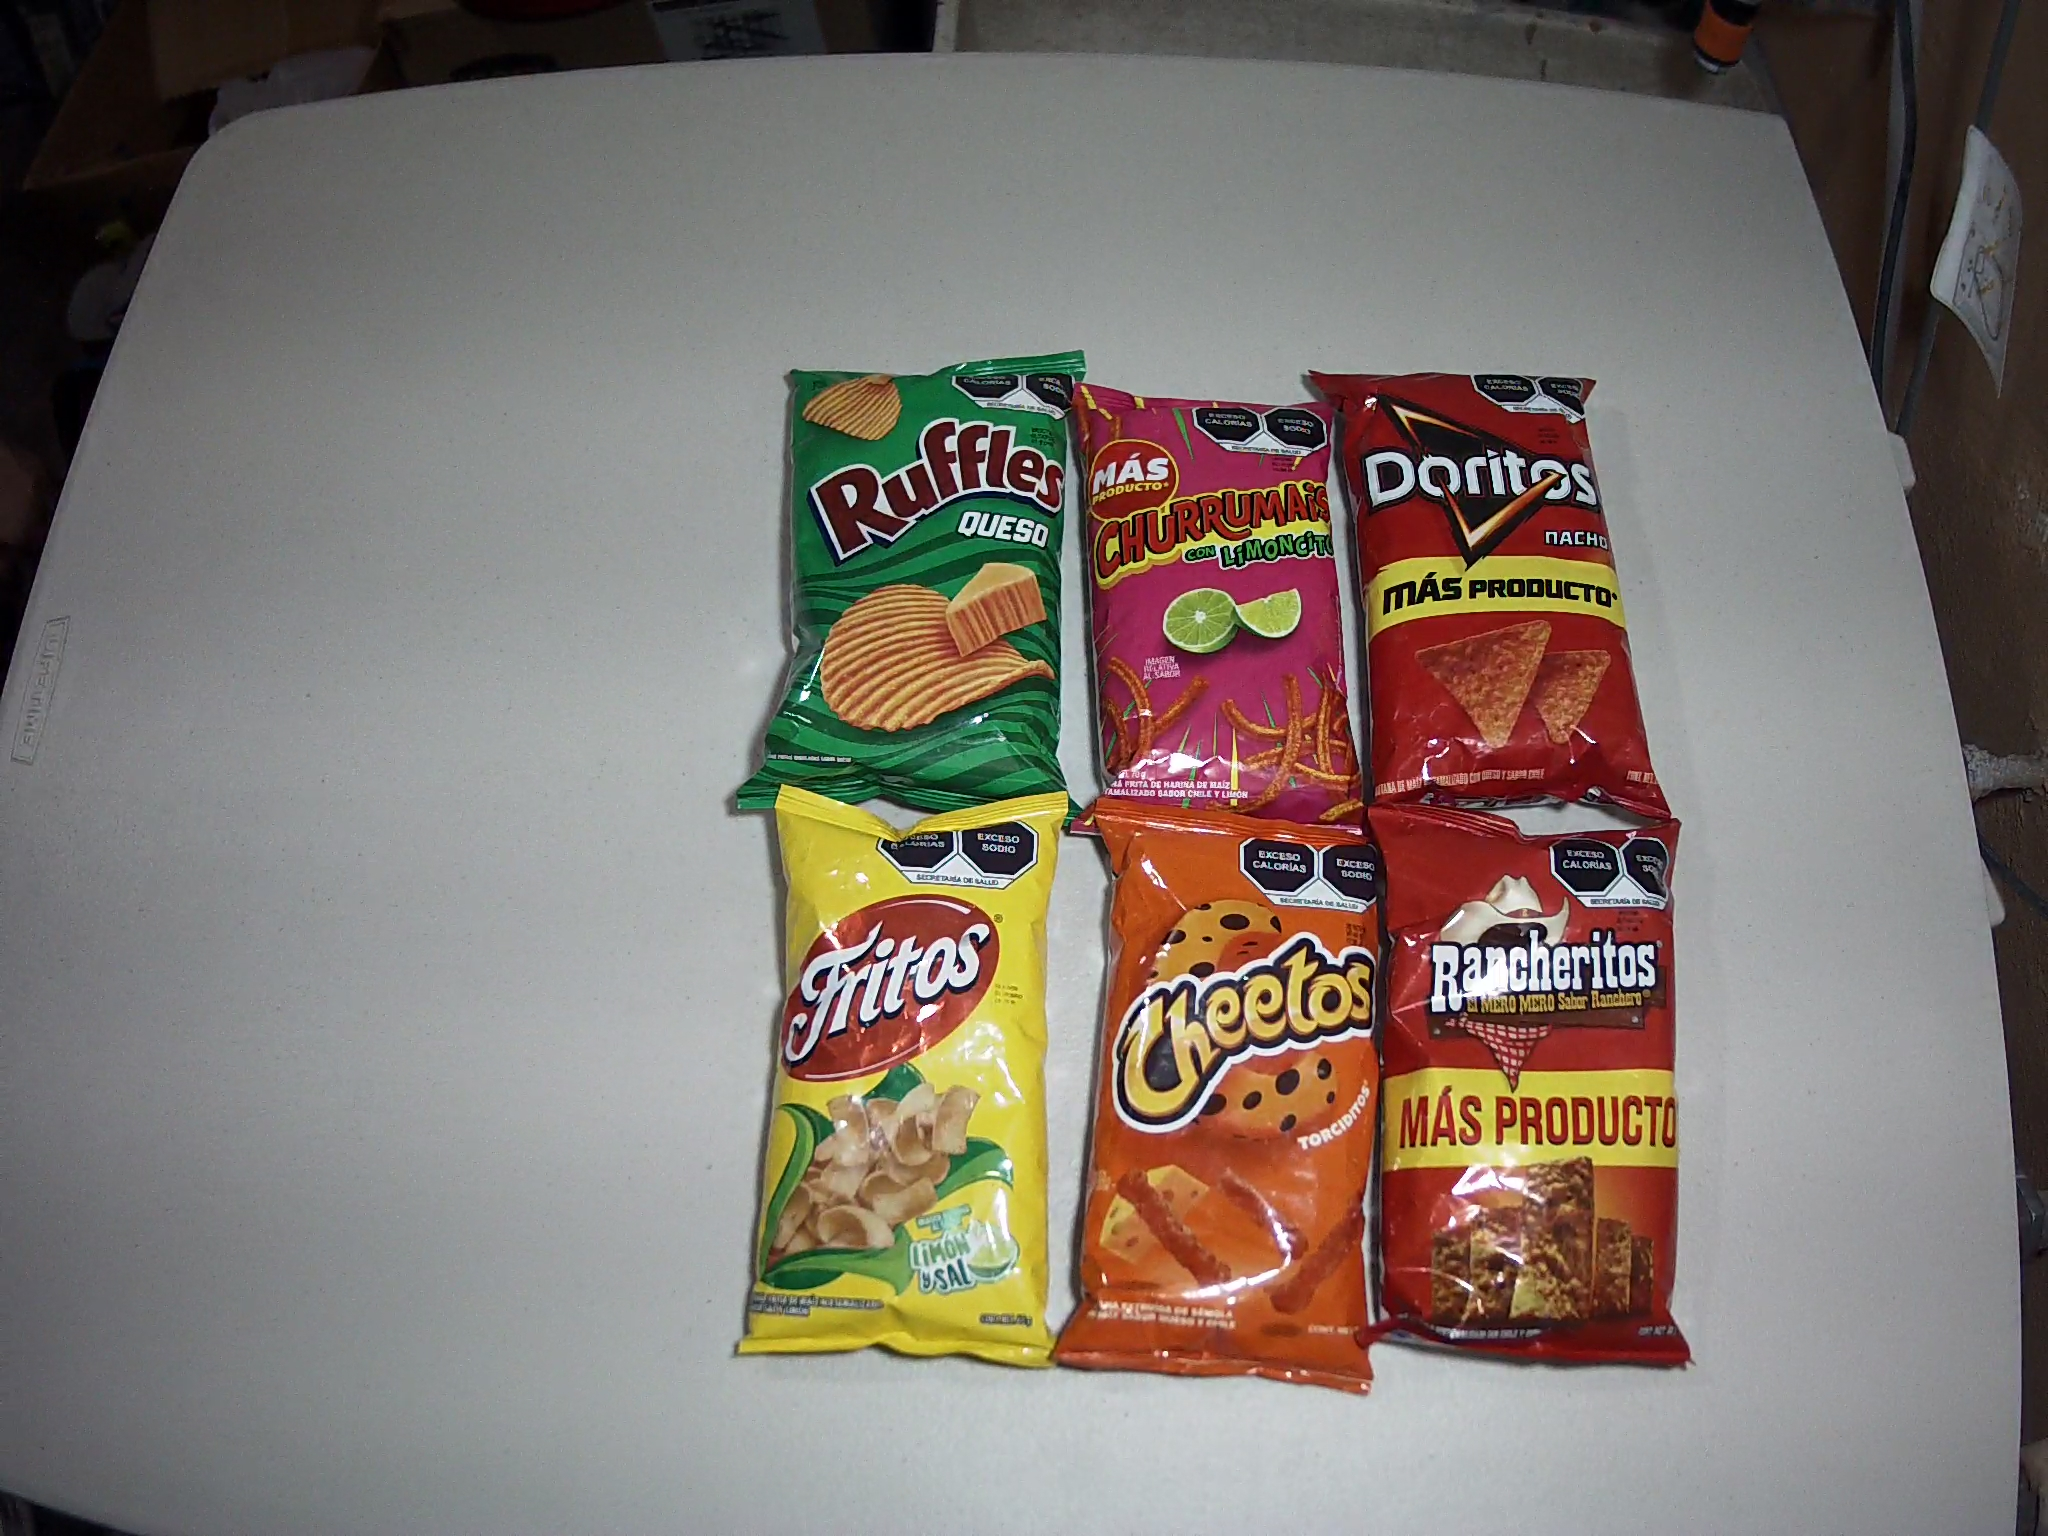CheetosTorciditos_55_F: (1055, 797, 1380, 1391)
Churrumais_70_F: (1068, 379, 1359, 821)
DoritosN_61_F: (1324, 373, 1679, 826)
FritosSalLimon_65_F: (737, 779, 1064, 1367)
Rancheritos_58_F: (1364, 803, 1696, 1367)
RufflesQ_48_F: (734, 345, 1085, 795)
